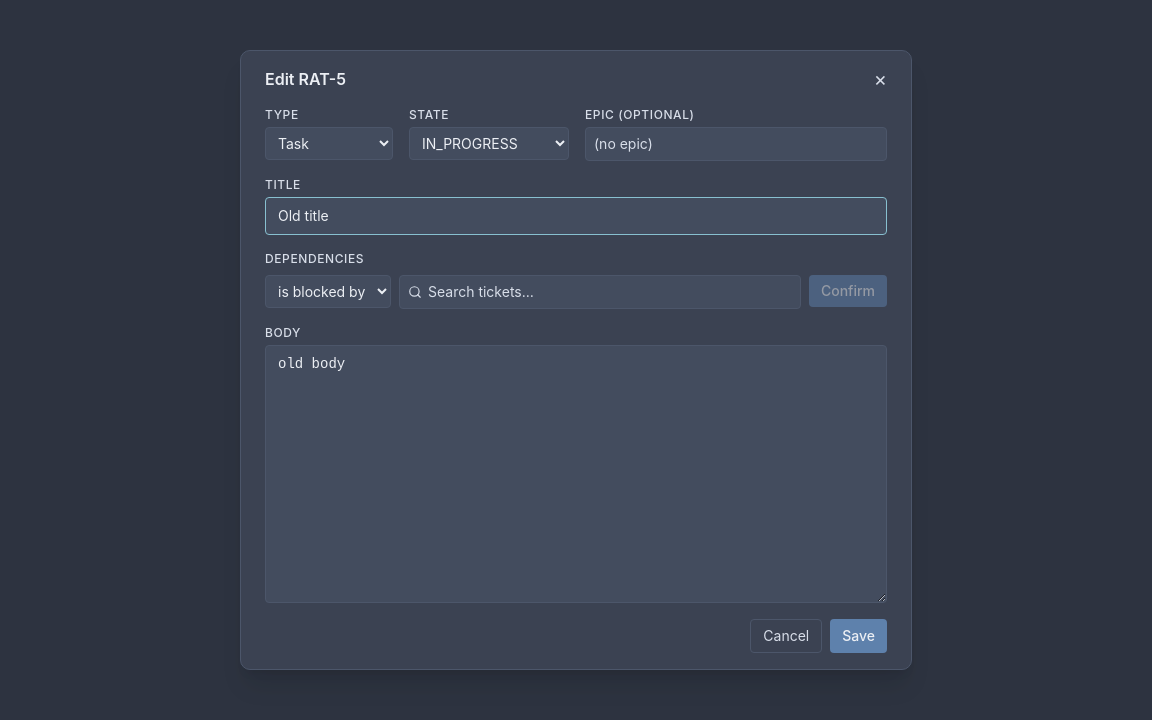
Test case: EditTicketModal — dependency persistence › should display the server's invalid-input message in the error banner when the PATCH rejects
Click the button "Save": click(859, 636) [830,619,887,653]
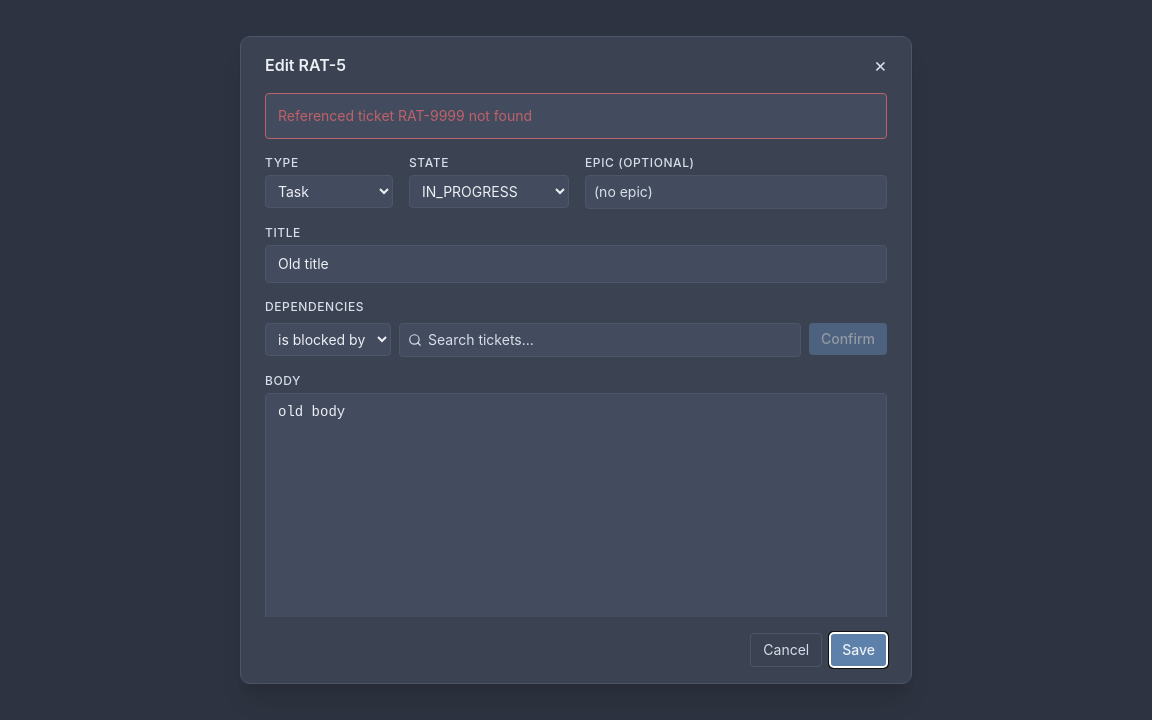
Expected: the text "Referenced ticket RAT-9999 not found" is shown, [265,93,887,139]
